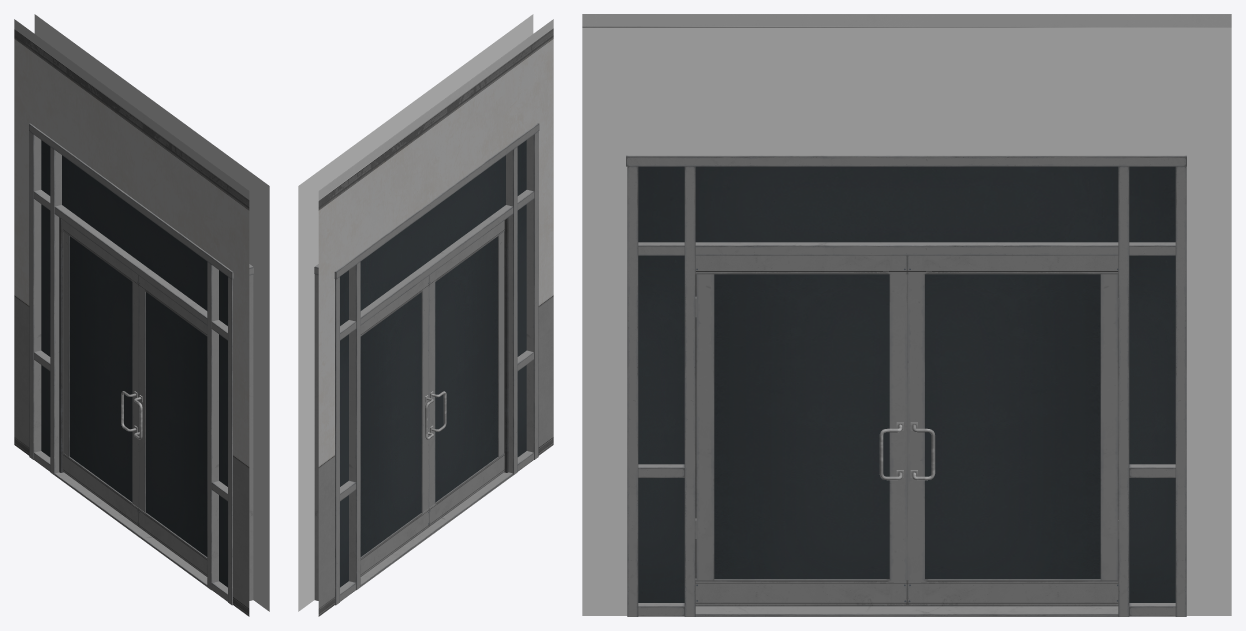
The model's file is HH_Hospital_DoubleDoor_01.fbx.
The picture shows the model from 3 angles, left to right: view 1: azimuth 30°, elevation 25°; view 2: azimuth 150°, elevation 25°; view 3: azimuth 270°, elevation 25°; orthographic projection. The views are drawn at different scales.
Visible parts, largest first — view 1: HH_Hospital_DoubleDoor_01, HH_Hospital_Corridor_Door_Glass_01, HH_Hospital_Corridor_Door_Glass_02, HH_Hospital_DoubleDoor_01_Glass, HH_Hospital_Corridor_Door_01_LOD0, HH_Hospital_Corridor_Door_02_LOD0; view 2: HH_Hospital_DoubleDoor_01, HH_Hospital_Corridor_Door_Glass_02, HH_Hospital_Corridor_Door_Glass_01, HH_Hospital_DoubleDoor_01_Glass, HH_Hospital_Corridor_Door_02_LOD0, HH_Hospital_Corridor_Door_01_LOD0; view 3: HH_Hospital_DoubleDoor_01, HH_Hospital_DoubleDoor_01_Glass, HH_Hospital_Corridor_Door_Glass_02, HH_Hospital_Corridor_Door_Glass_01, HH_Hospital_Corridor_Door_02_LOD0, HH_Hospital_Corridor_Door_01_LOD0.
Boxes of the visible parts, <box> form: HH_Hospital_DoubleDoor_01: <box>14,14,269,616</box>; HH_Hospital_Corridor_Door_Glass_01: <box>69,236,132,501</box>; HH_Hospital_Corridor_Door_Glass_02: <box>146,292,207,556</box>; HH_Hospital_DoubleDoor_01_Glass: <box>41,140,227,587</box>; HH_Hospital_Corridor_Door_01_LOD0: <box>63,220,138,526</box>; HH_Hospital_Corridor_Door_02_LOD0: <box>134,275,207,576</box>; HH_Hospital_DoubleDoor_01: <box>298,14,553,616</box>; HH_Hospital_Corridor_Door_Glass_02: <box>435,236,497,502</box>; HH_Hospital_Corridor_Door_Glass_01: <box>360,292,421,556</box>; HH_Hospital_DoubleDoor_01_Glass: <box>340,140,526,587</box>; HH_Hospital_Corridor_Door_02_LOD0: <box>428,220,504,526</box>; HH_Hospital_Corridor_Door_01_LOD0: <box>360,276,433,576</box>; HH_Hospital_DoubleDoor_01: <box>582,14,1231,616</box>; HH_Hospital_DoubleDoor_01_Glass: <box>638,166,1175,602</box>; HH_Hospital_Corridor_Door_Glass_02: <box>714,274,889,579</box>; HH_Hospital_Corridor_Door_Glass_01: <box>925,274,1100,579</box>; HH_Hospital_Corridor_Door_02_LOD0: <box>695,255,907,606</box>; HH_Hospital_Corridor_Door_01_LOD0: <box>907,255,1118,606</box>.
Size of what is drawn, in the model's own units: 23.09 by 400 by 400.
